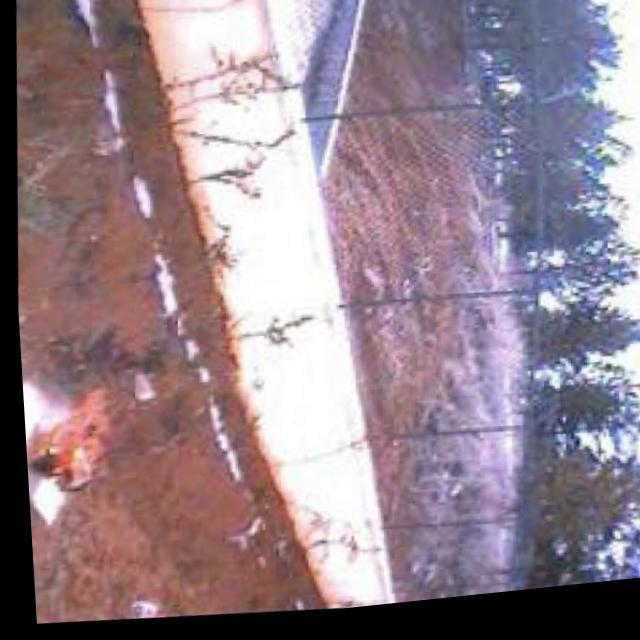fire: (18, 378, 114, 502)
